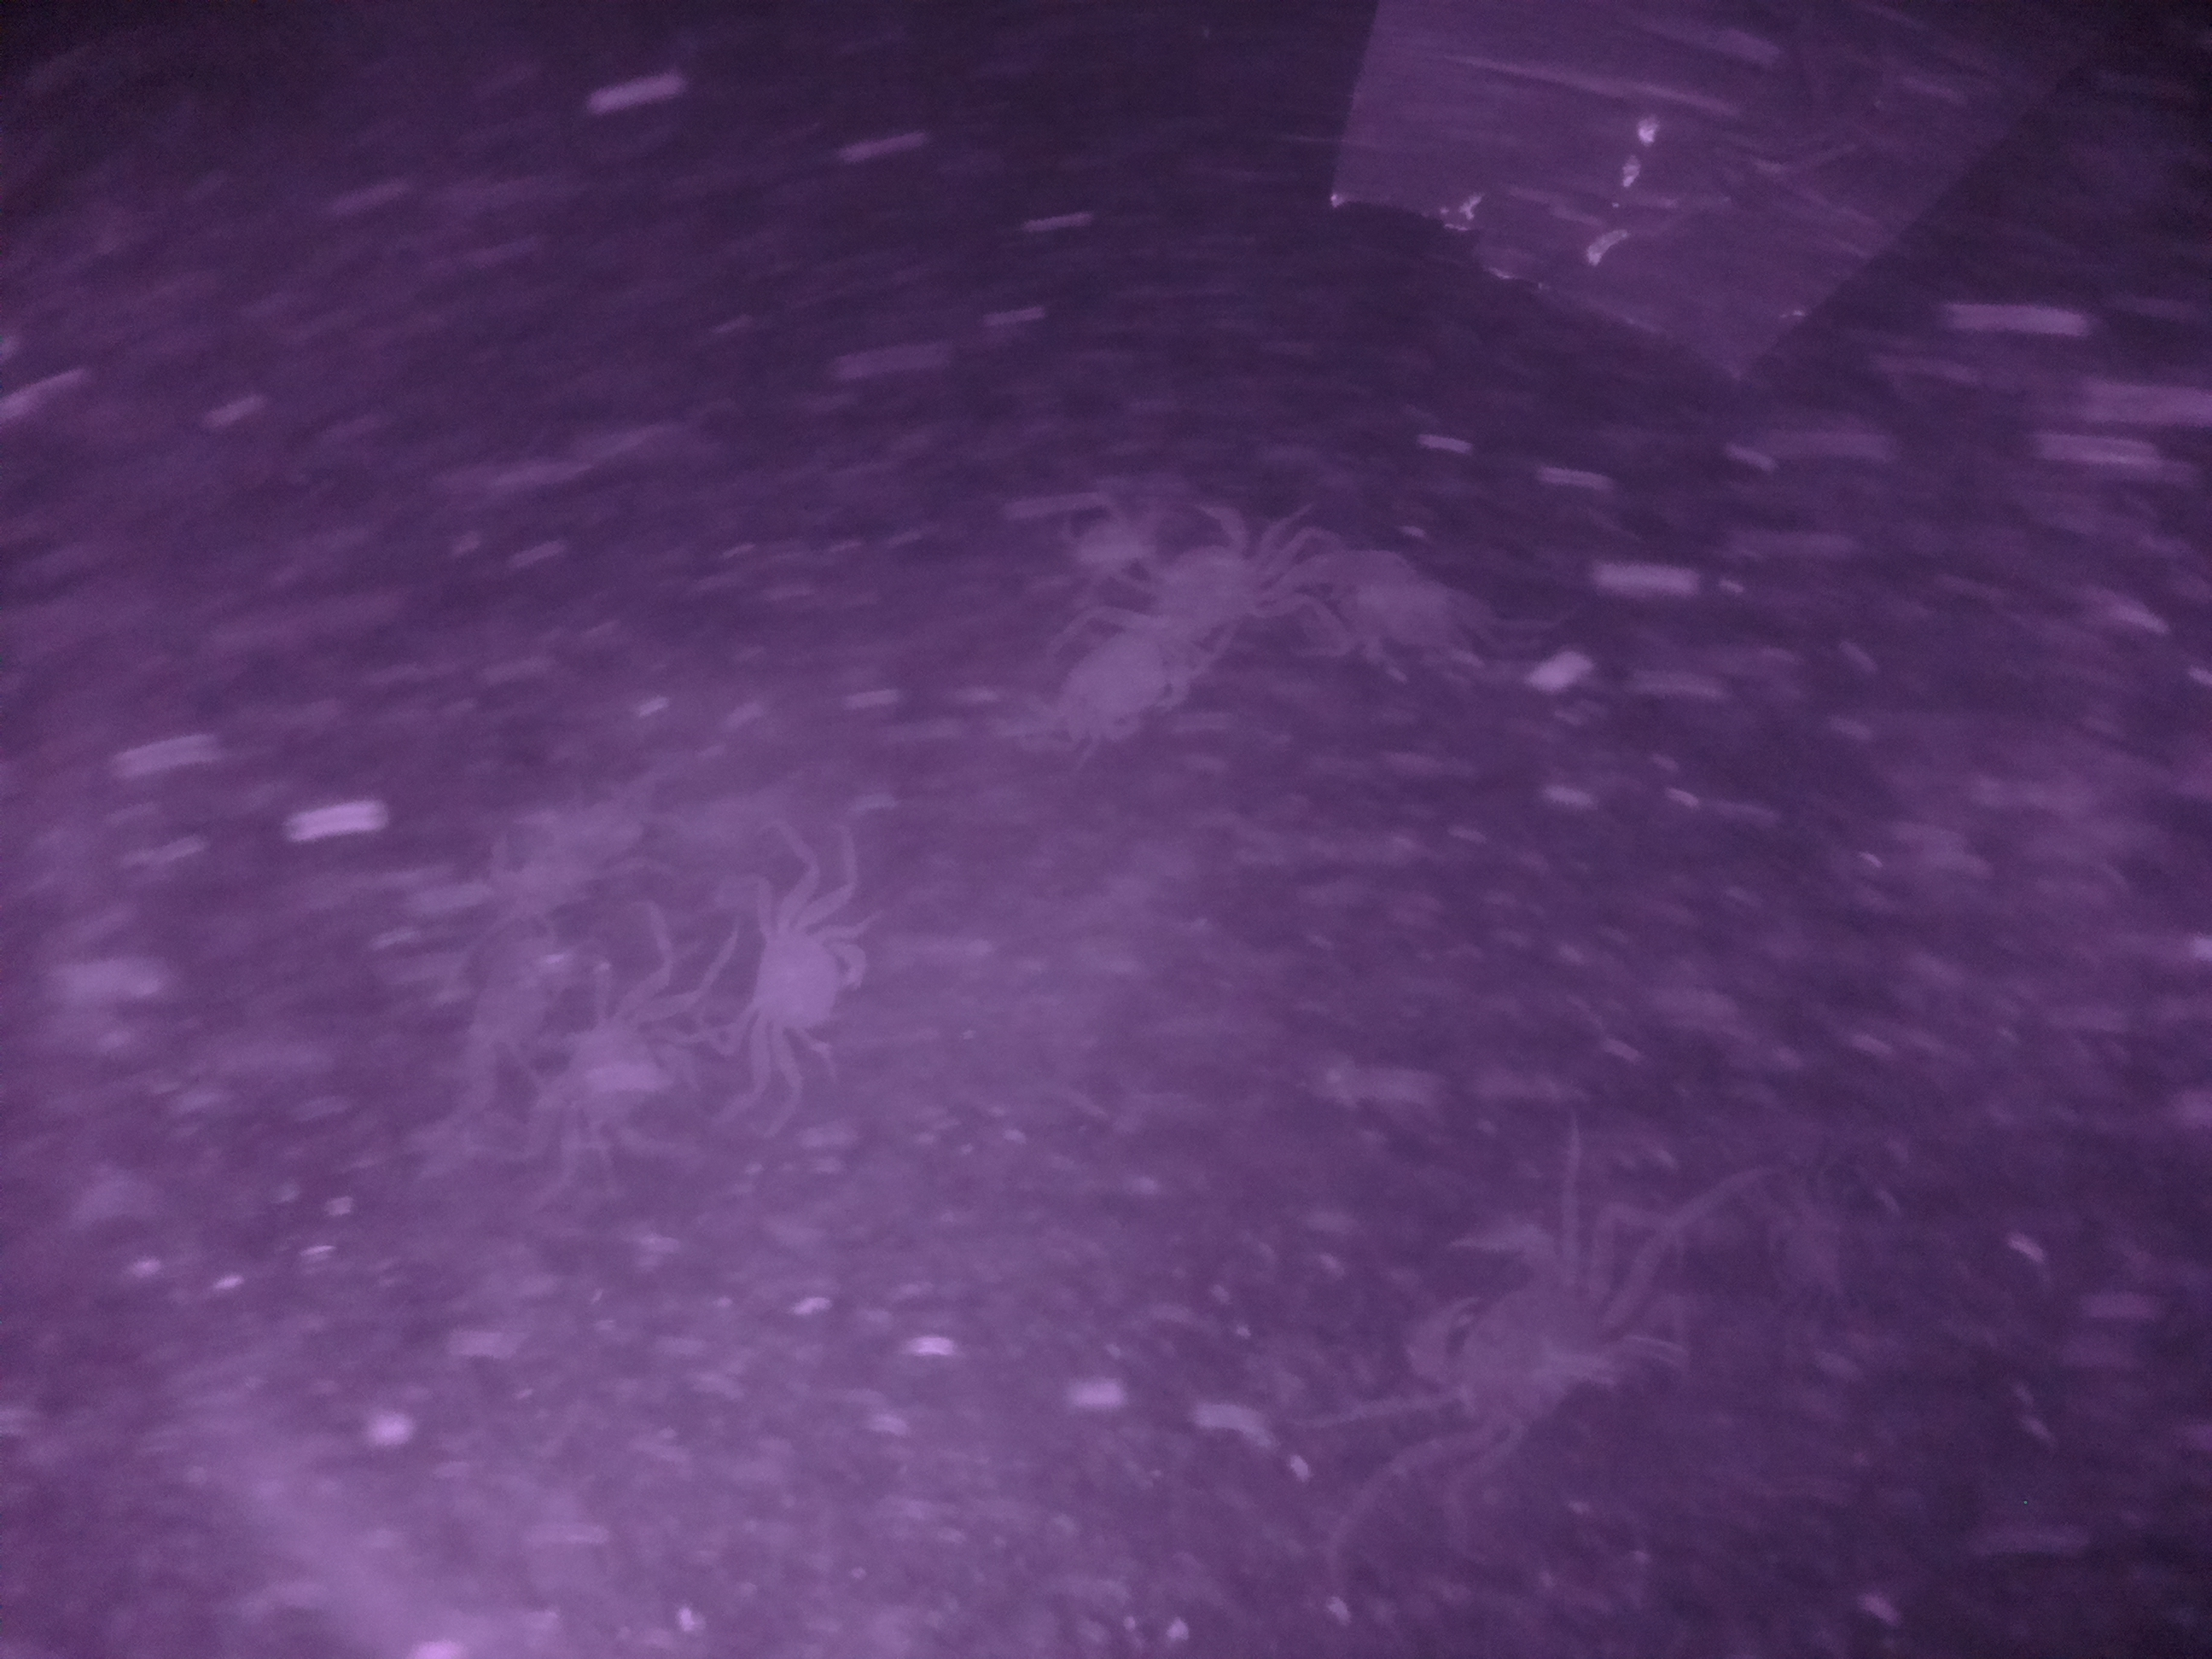Crab: (738, 871, 878, 1103)
